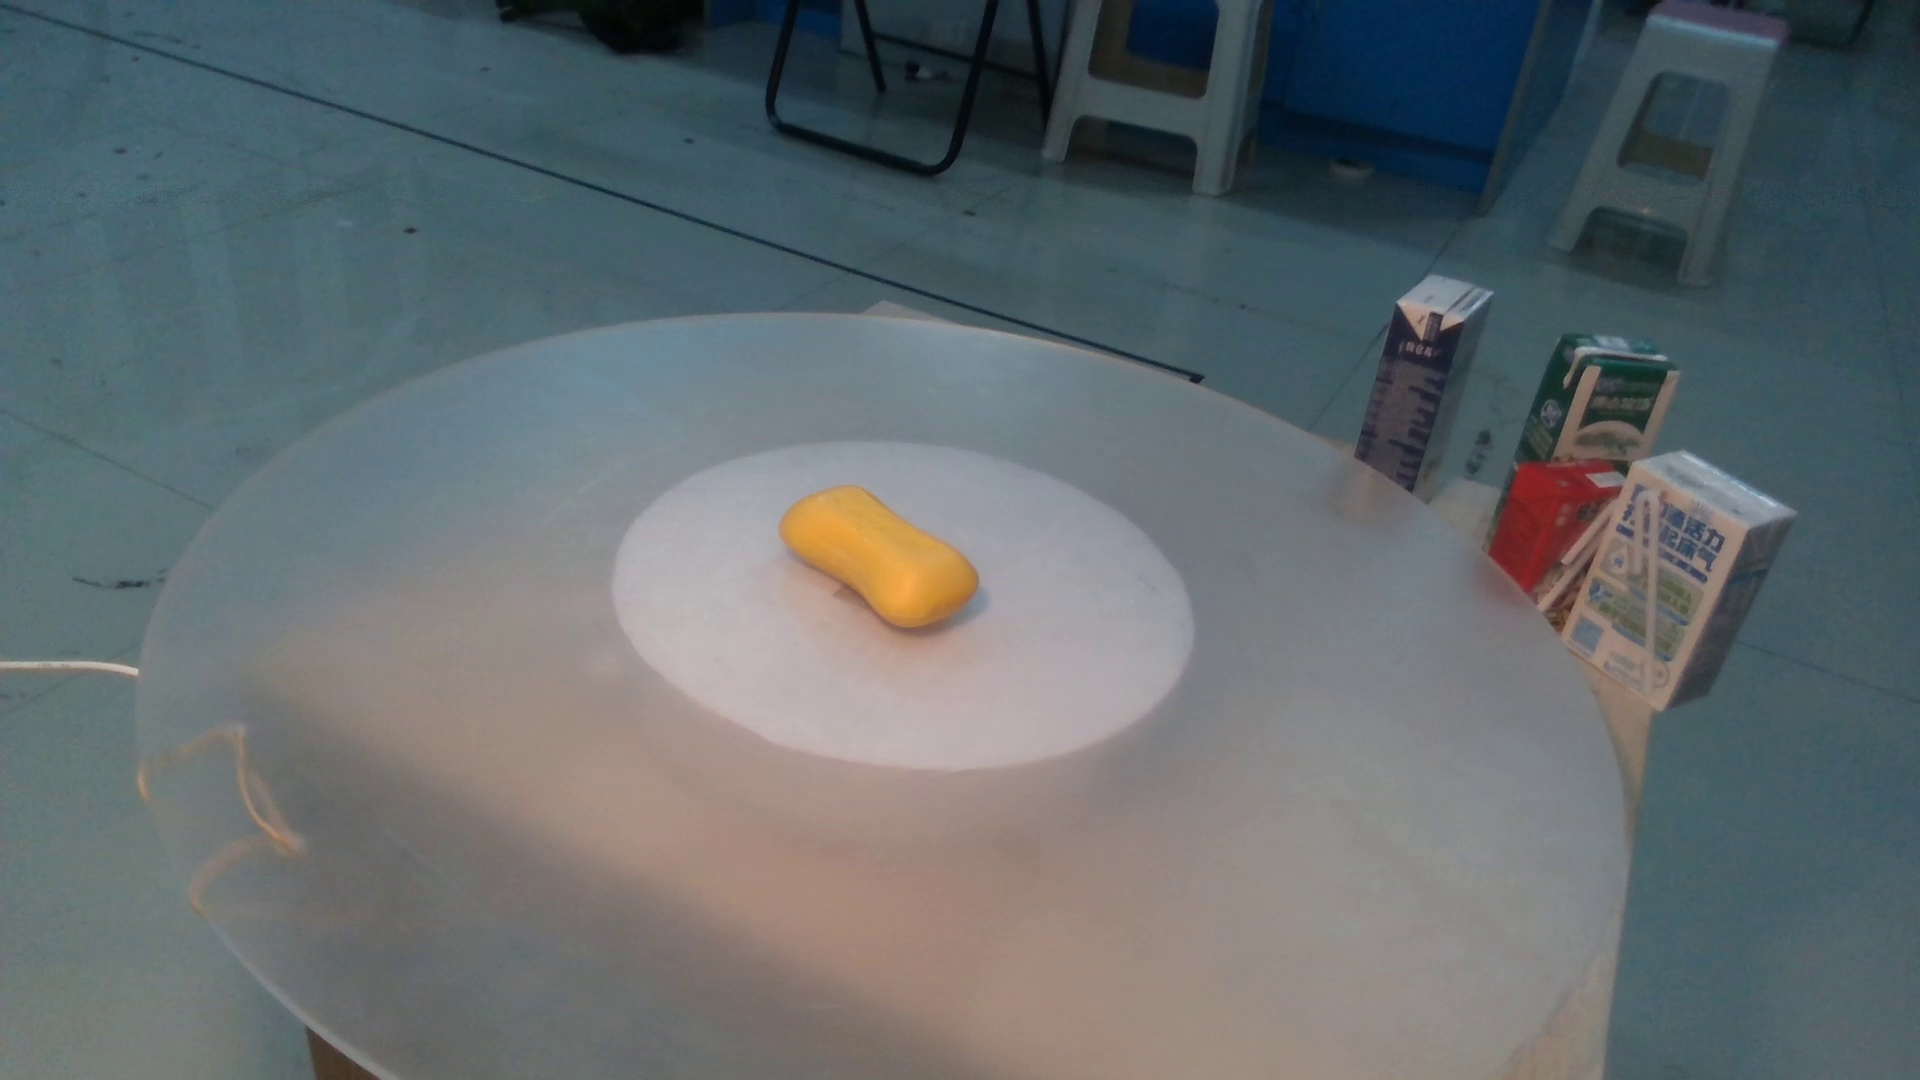CA003_1: (748, 468, 1002, 632)
